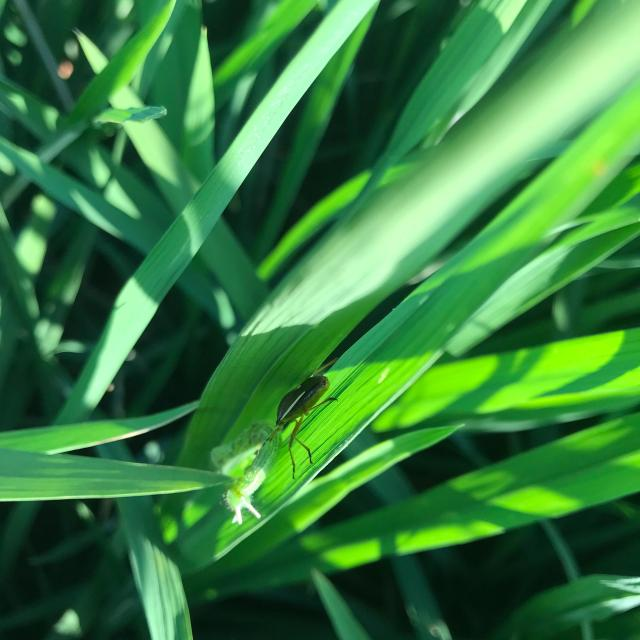ulat pada daun padi: (204, 424, 295, 536)
